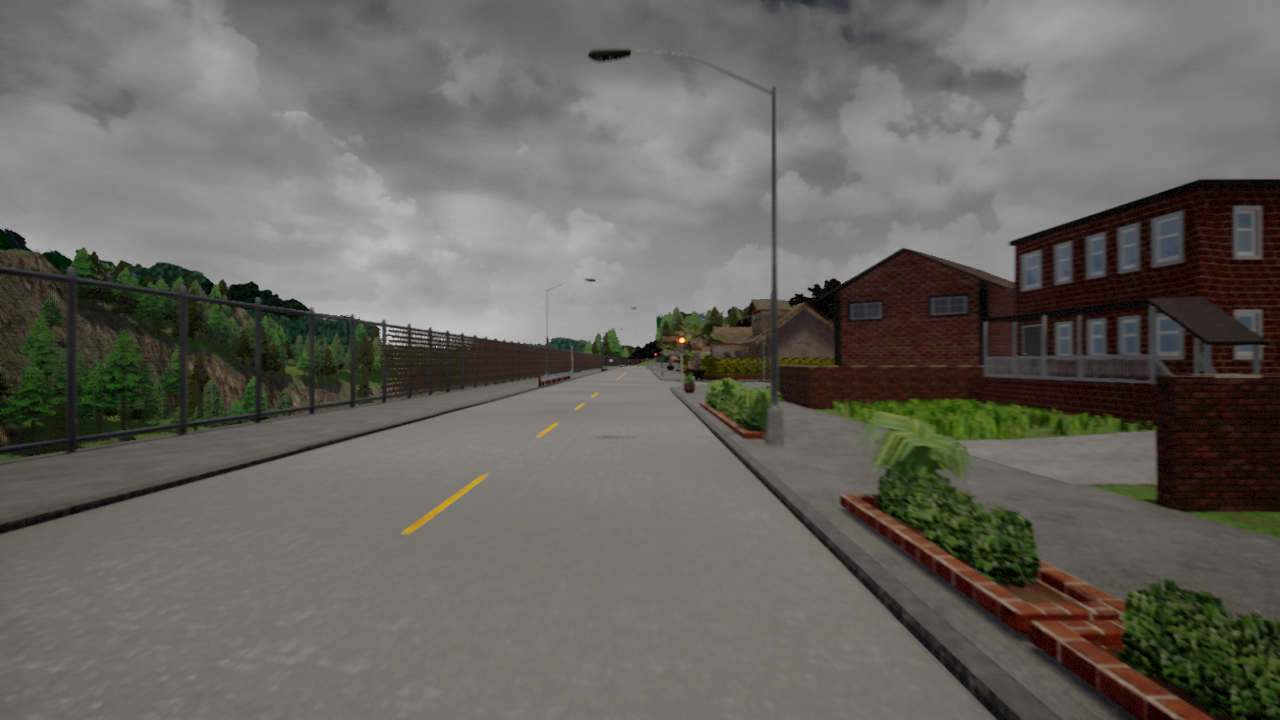red: (678, 336, 686, 353)
